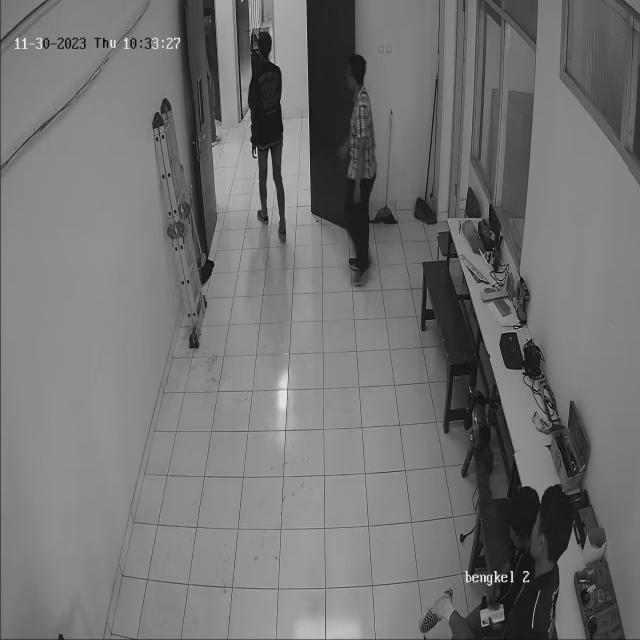person: (332, 32, 386, 304), (246, 18, 294, 234)
